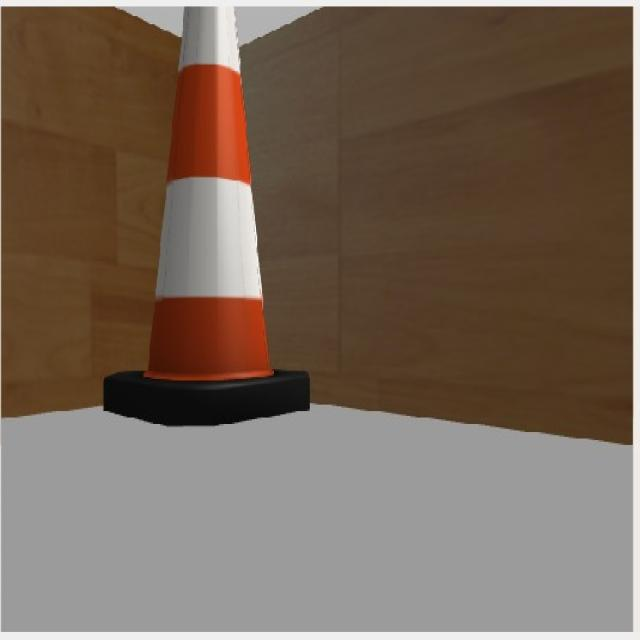Traffic Cone: (98, 4, 319, 428)
